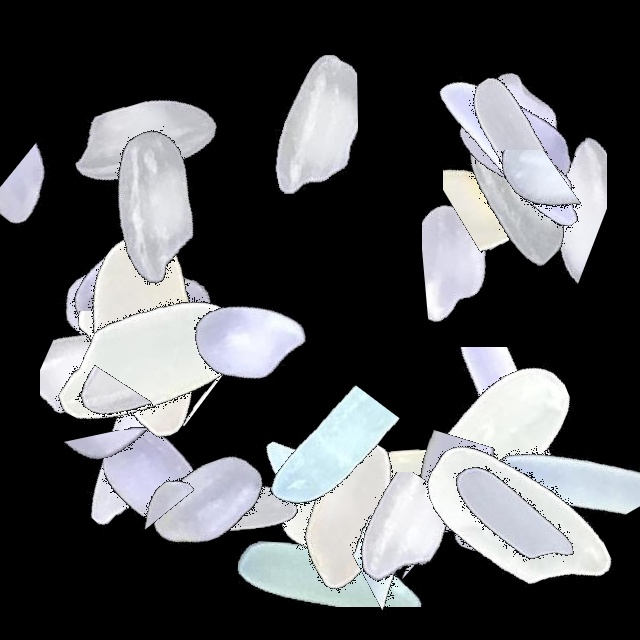Broken: (235, 343, 409, 593), (471, 332, 640, 582), (195, 1, 358, 251), (263, 472, 513, 633), (348, 347, 598, 507), (362, 390, 521, 640), (40, 259, 198, 509), (206, 453, 456, 607), (422, 132, 572, 382), (468, 70, 607, 320), (511, 343, 640, 593), (0, 81, 116, 331), (4, 311, 254, 417), (390, 150, 640, 256), (293, 514, 543, 619), (0, 430, 250, 535), (374, 413, 624, 518), (0, 430, 250, 531), (381, 388, 476, 638), (68, 310, 163, 560), (443, 53, 537, 303), (352, 390, 442, 640), (6, 249, 256, 334), (37, 342, 287, 426)
Full: (0, 218, 250, 468), (0, 187, 250, 437), (208, 390, 458, 640), (37, 199, 287, 449), (248, 390, 498, 640), (257, 376, 507, 626), (225, 390, 475, 640), (390, 390, 640, 640), (0, 332, 250, 582), (0, 163, 250, 413), (390, 10, 640, 260), (27, 346, 277, 596), (28, 204, 278, 454), (20, 13, 270, 263), (101, 383, 351, 633), (32, 240, 282, 490), (82, 378, 332, 628), (127, 216, 377, 466), (30, 78, 280, 328), (374, 318, 624, 568), (390, 73, 640, 323), (390, 19, 640, 269), (390, 388, 640, 638), (390, 26, 640, 276), (390, 18, 640, 268)
